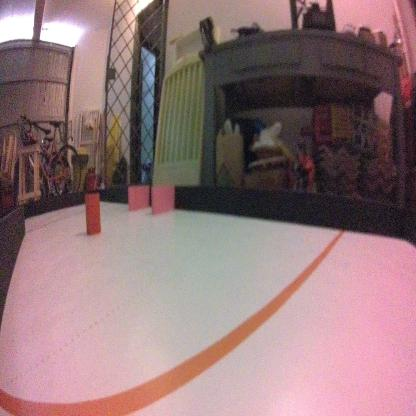magenta: (150, 184, 174, 213), (126, 180, 149, 210)
red: (84, 191, 100, 234)
